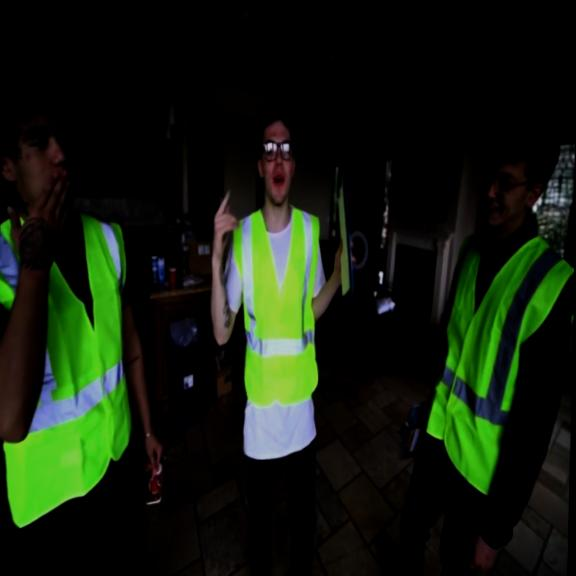safety_vest: (0, 204, 136, 533), (418, 229, 574, 498), (228, 204, 324, 403)
